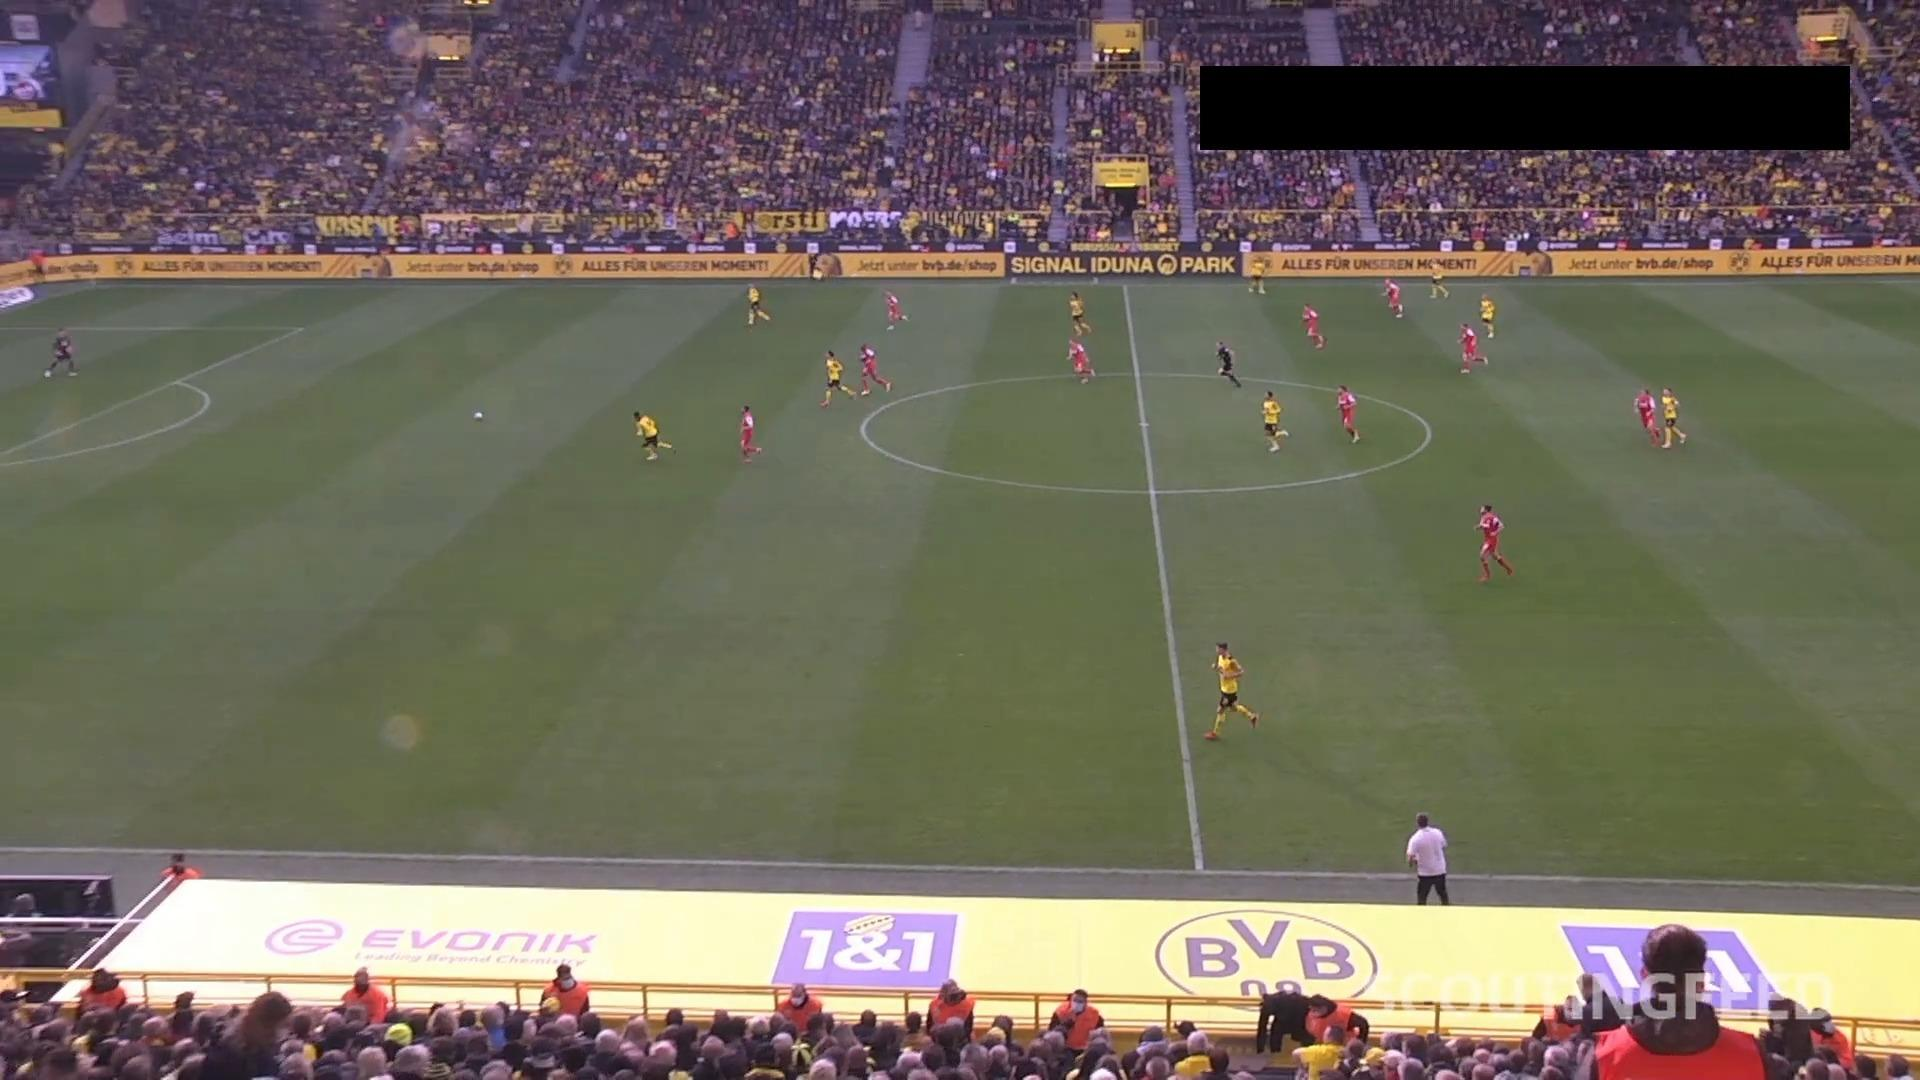ball: (472, 410, 485, 421)
